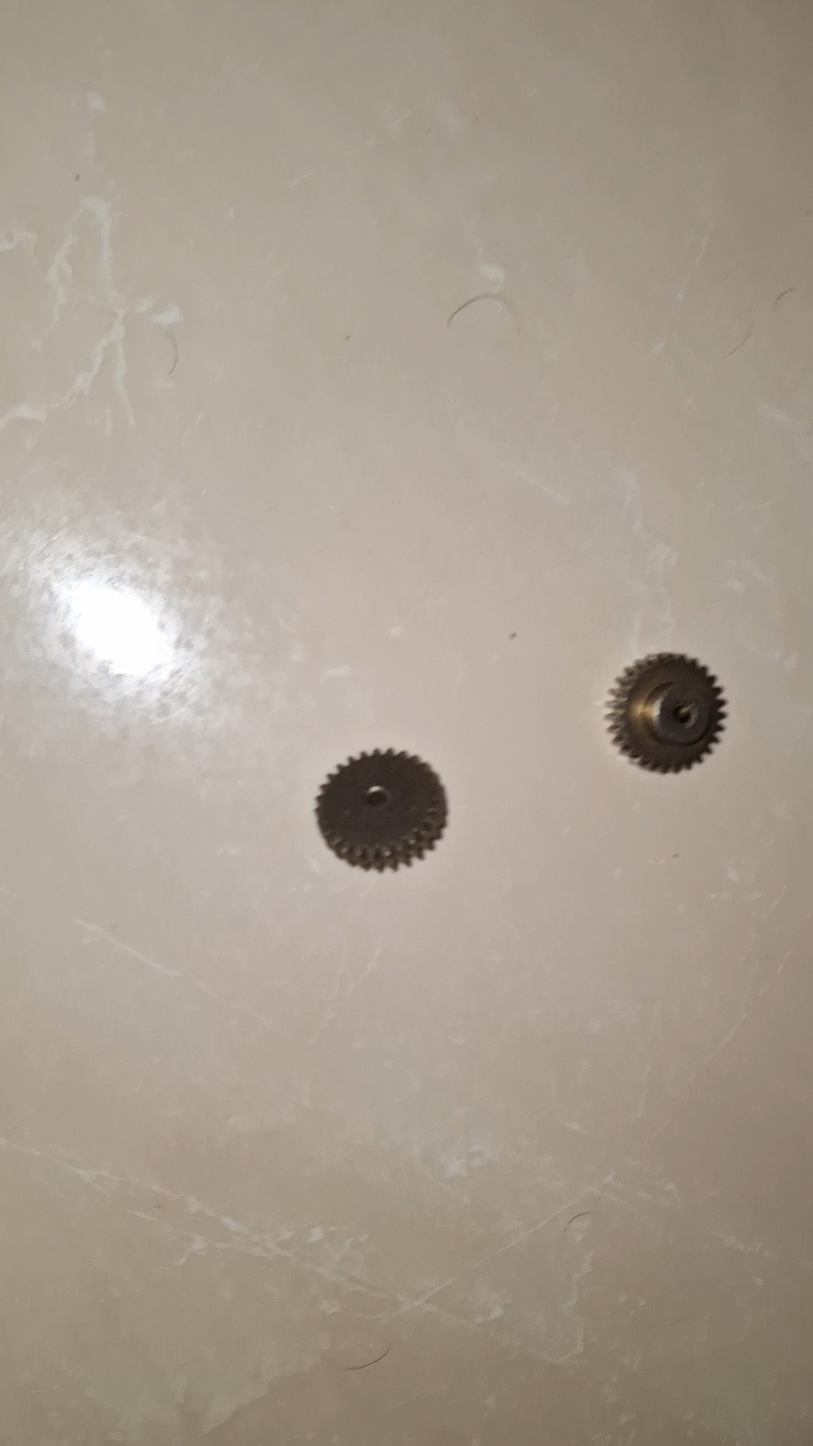spur gear: (316, 749, 447, 871), (607, 653, 725, 773)
